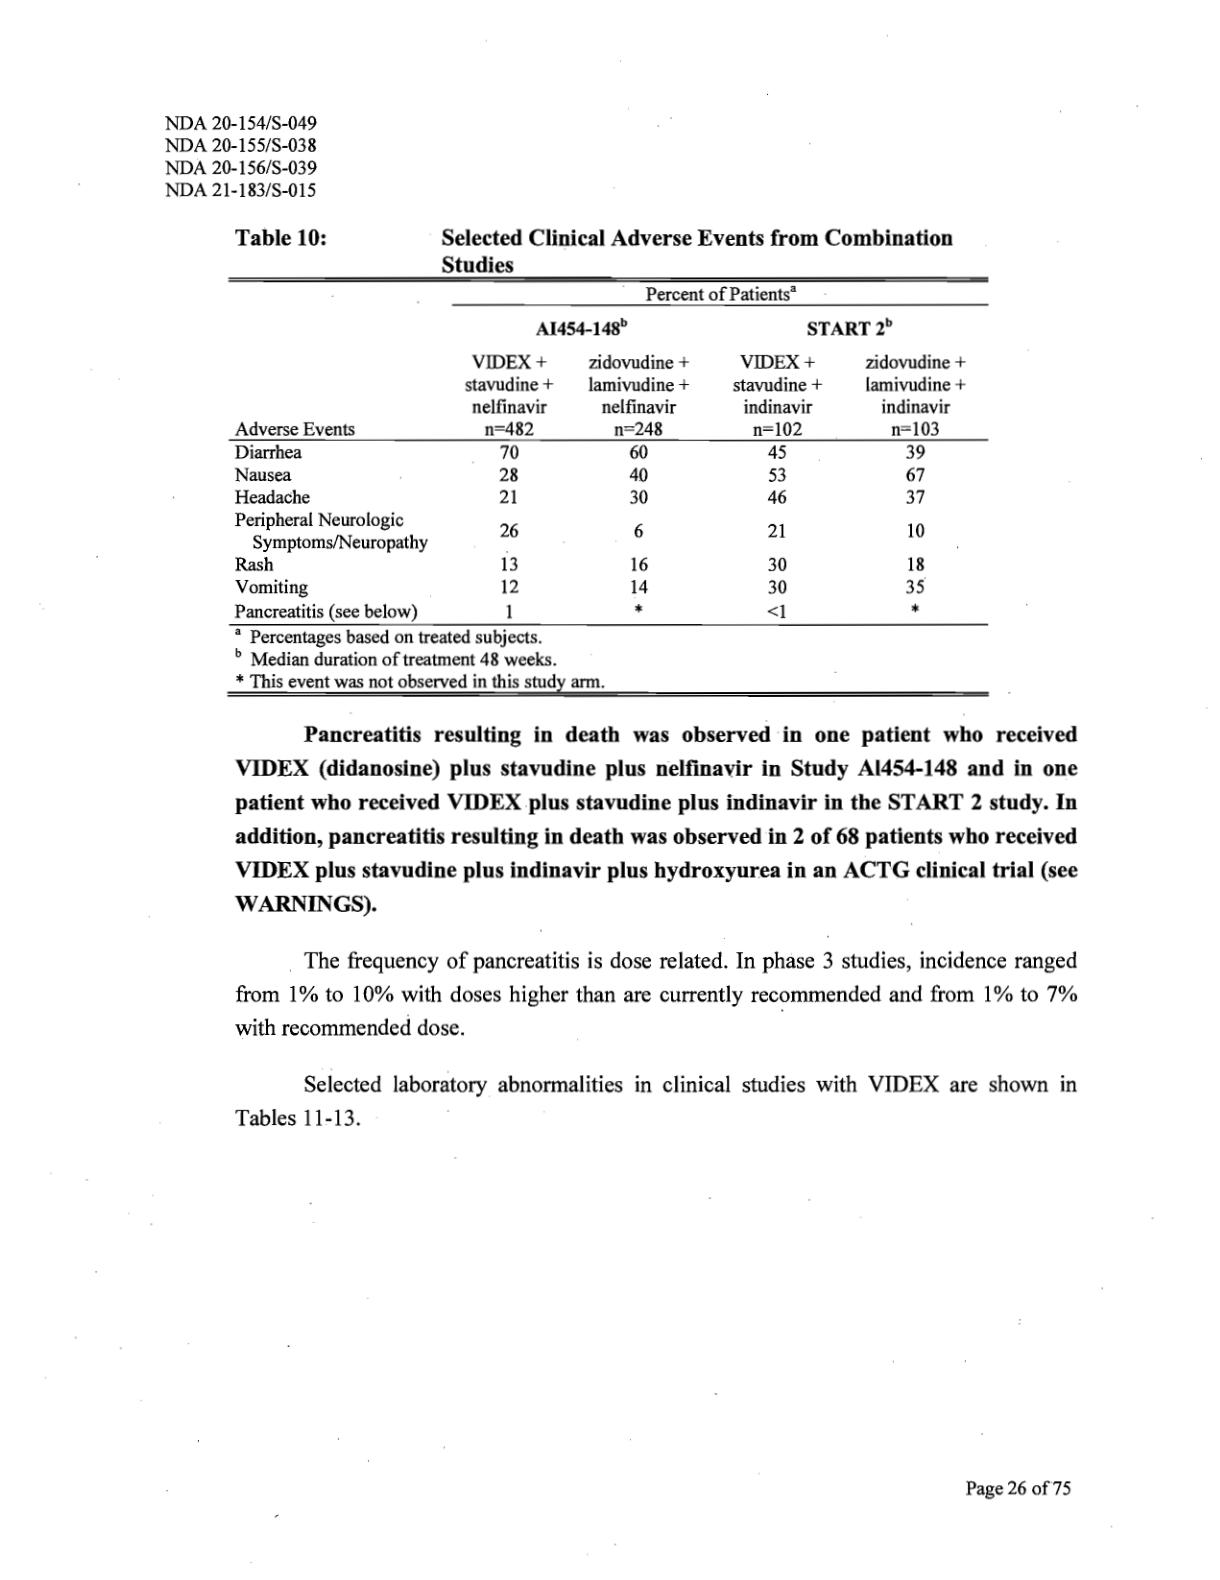partial_lined_merged_cells: (226, 276, 991, 629)
